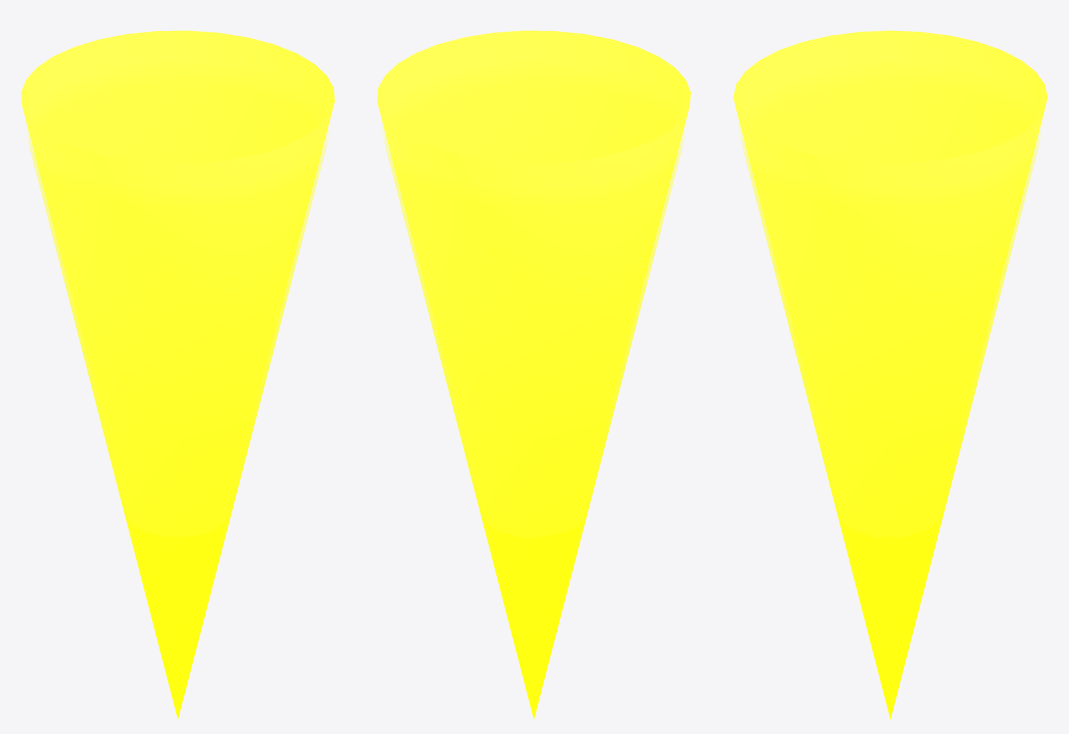
File: ConeLumiere4.glb
The picture shows the model from 3 angles, left to right: view 1: azimuth 30°, elevation 25°; view 2: azimuth 150°, elevation 25°; view 3: azimuth 270°, elevation 25°; orthographic projection.
Parts seen in each view (by area): view 1: Cone, Cone.001; view 2: Cone, Cone.001; view 3: Cone, Cone.001.
Part boxes in pixels (x1,y1,x2,y2): Cone: (21,30,334,536); Cone.001: (28,79,327,718); Cone: (377,30,690,537); Cone.001: (383,78,683,718); Cone: (733,30,1047,537); Cone.001: (741,78,1039,719).
Size of the model in its own units: 4.73 by 10.13 by 4.73.
Materials: 2 (2 with a texture image).
